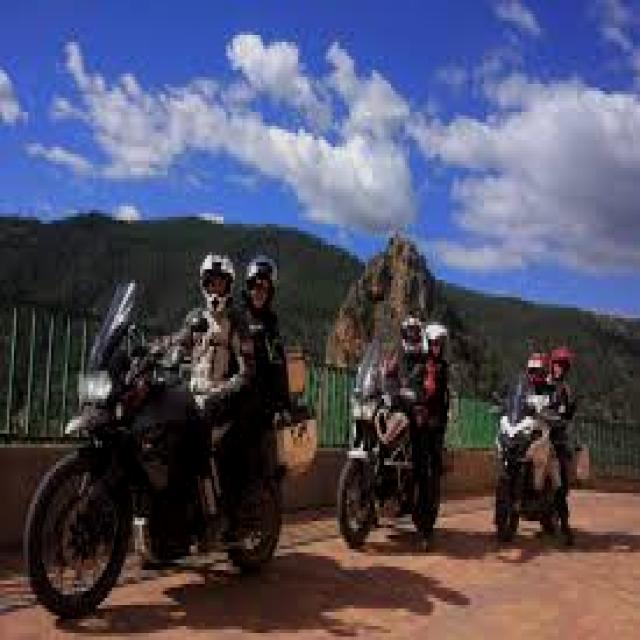MOTORCYCLE: (25, 324, 290, 583), (341, 379, 451, 545), (494, 396, 572, 538)
